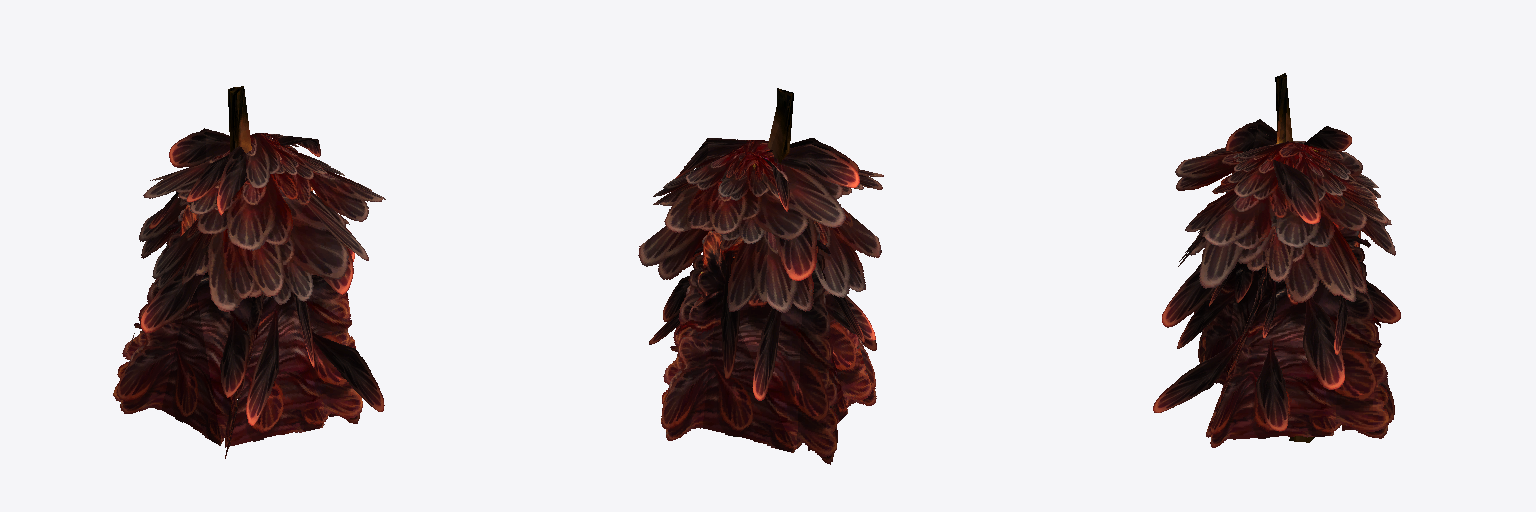
The picture shows the model from 3 angles: view 1: azimuth 30°, elevation 25°; view 2: azimuth 150°, elevation 25°; view 3: azimuth 270°, elevation 25°; orthographic projection.
Visible parts, largest first — view 1: borean_redplant_burningpile_02; view 2: borean_redplant_burningpile_02; view 3: borean_redplant_burningpile_02.
Boxes of the visible parts, <box> form: borean_redplant_burningpile_02: <box>113,86,385,458</box>; borean_redplant_burningpile_02: <box>638,88,883,464</box>; borean_redplant_burningpile_02: <box>1153,73,1400,447</box>.
Size of the model in its own units: 1.36 by 1.92 by 1.34.
1 materials, 1 textured.